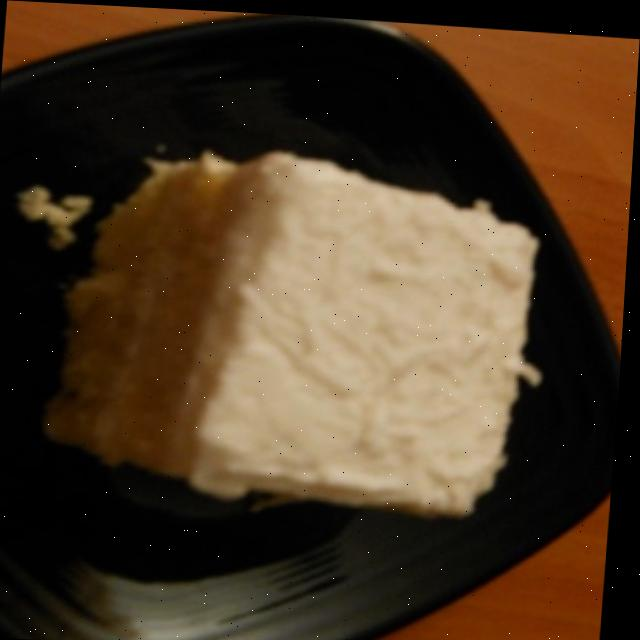蛋糕甜品: (0, 9, 616, 640)
